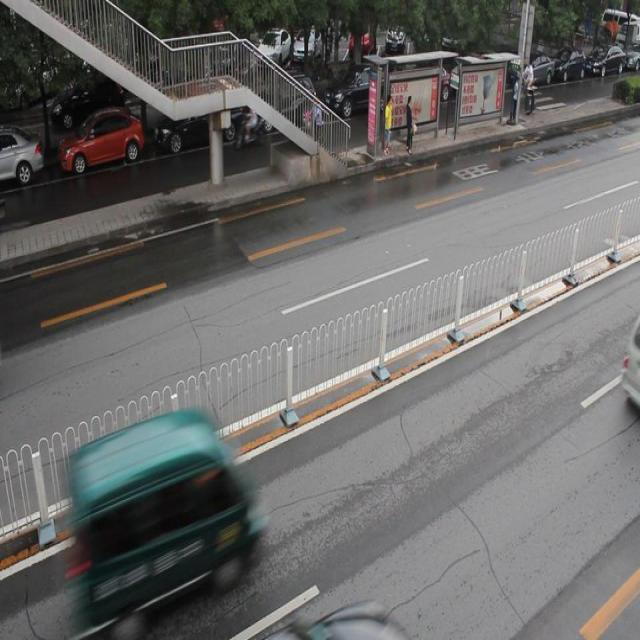car: (57, 105, 142, 172), (287, 596, 410, 640), (154, 96, 242, 148), (242, 79, 317, 139), (322, 67, 397, 124), (1, 126, 45, 188)
truck: (66, 411, 263, 625), (620, 316, 640, 413)
